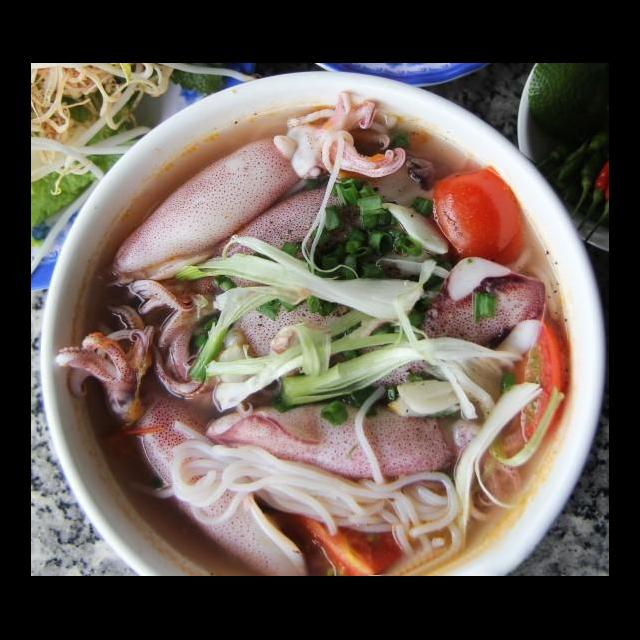bun: (155, 418, 464, 566), (405, 328, 528, 424)
muc: (48, 298, 314, 576), (92, 86, 410, 300), (199, 392, 539, 510), (119, 168, 371, 318), (100, 286, 371, 408), (345, 252, 550, 396)
